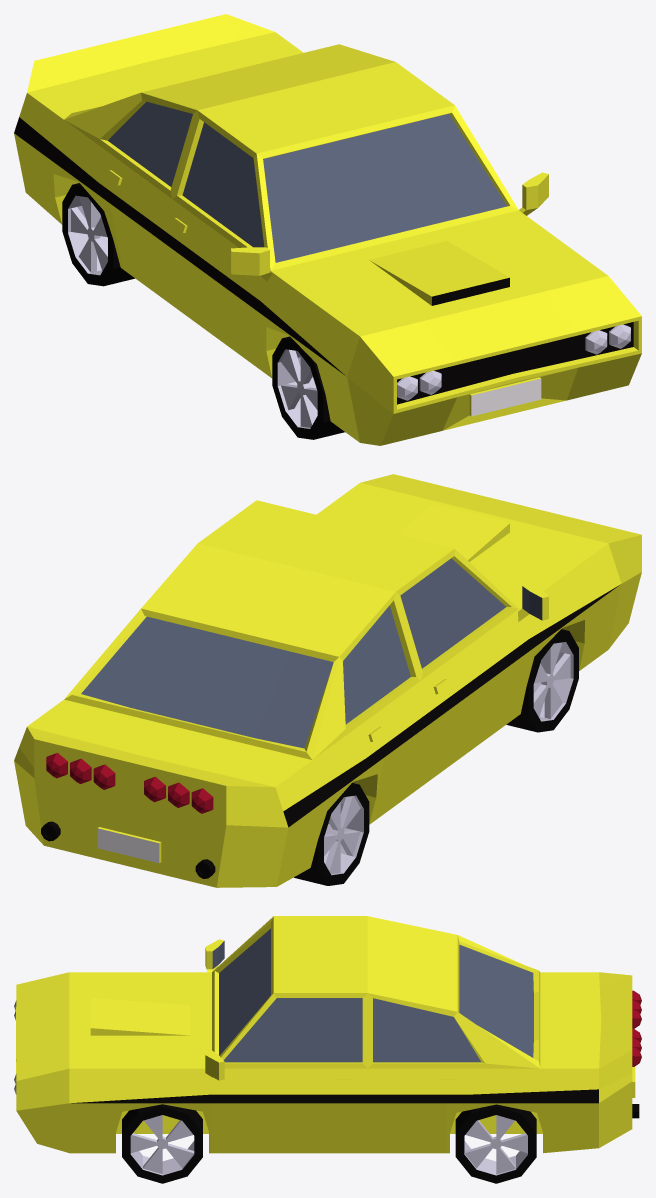
The model's file is Muscle.glb.
The picture shows the model from 3 angles, top to bottom: view 1: azimuth 30°, elevation 25°; view 2: azimuth 150°, elevation 25°; view 3: azimuth 270°, elevation 25°; orthographic projection. The views are drawn at different scales.
Parts seen in each view (by area): view 1: Muscle, Muscle wheel front right, Muscle wheel rear right; view 2: Muscle, Muscle wheel front right, Muscle wheel rear right; view 3: Muscle, Muscle wheel front left, Muscle wheel rear left.
Part boxes in pixels (x1,y1,x2,y2): Muscle: (14,14,641,445); Muscle wheel front right: (272,336,344,439); Muscle wheel rear right: (62,183,134,286); Muscle: (14,474,641,887); Muscle wheel front right: (506,629,578,732); Muscle wheel rear right: (294,783,369,885); Muscle: (14,916,641,1153); Muscle wheel front left: (122,1104,202,1183); Muscle wheel rear left: (455,1104,536,1183).
Bounding box in the file's own units: 281 × 191 × 606.
